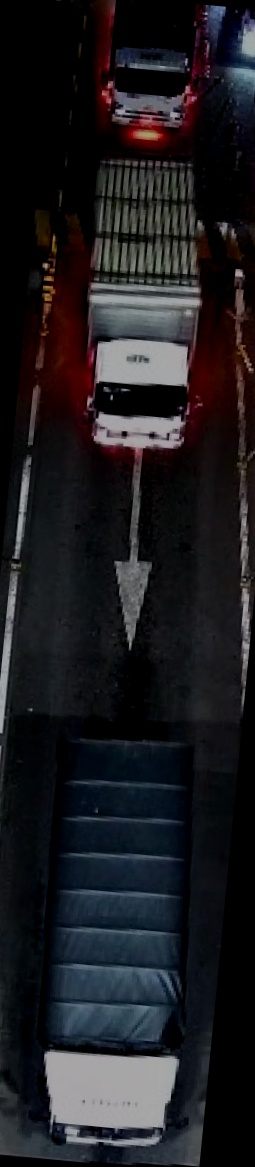truck: (16, 734, 219, 1158), (61, 151, 211, 456), (102, 2, 208, 137)
